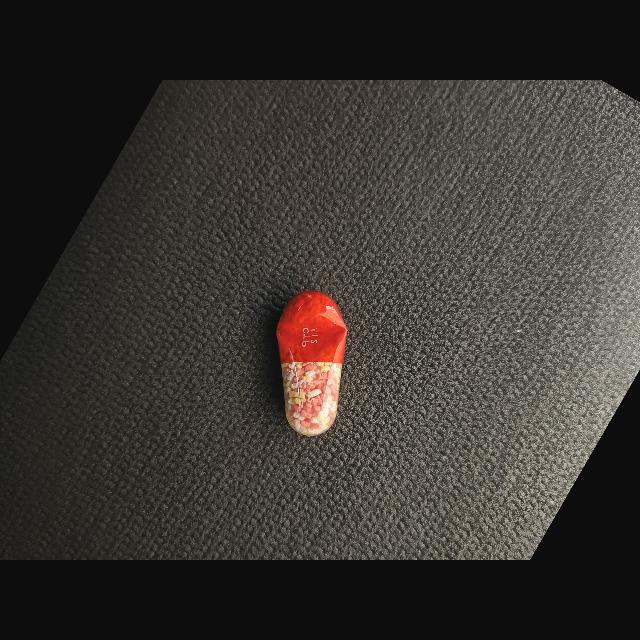Defective Capsule: (276, 290, 348, 436)
